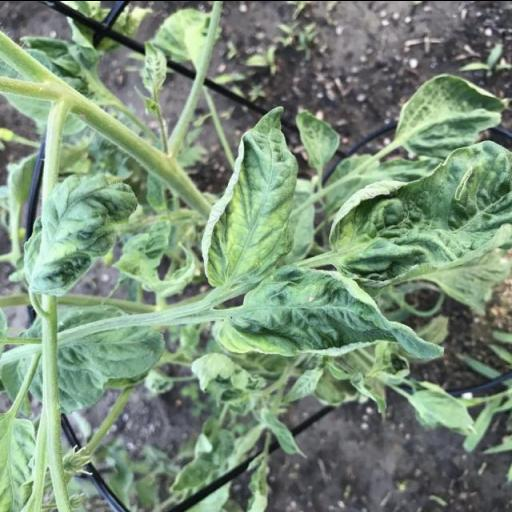Mosaic Virus: (209, 266, 449, 358), (200, 102, 298, 290), (17, 170, 138, 301)
